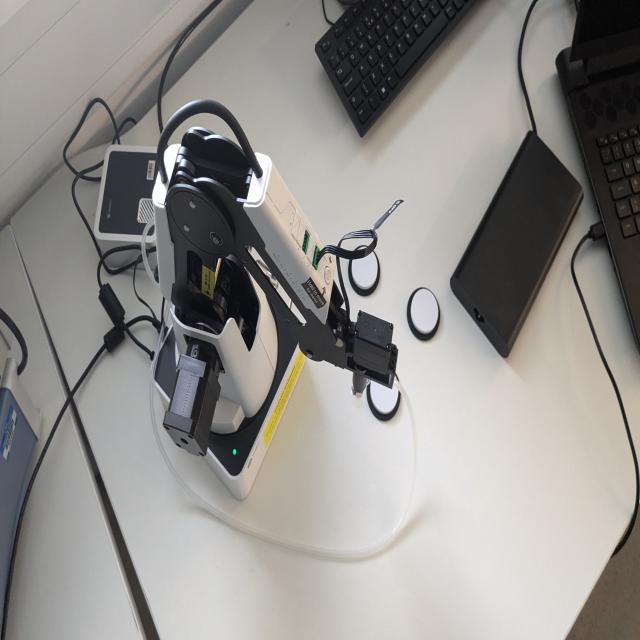Robot-end-effector-HF8z: (341, 306, 400, 403)
